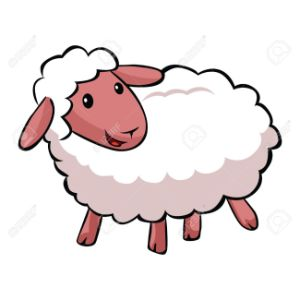sheep: (15, 42, 284, 255)
